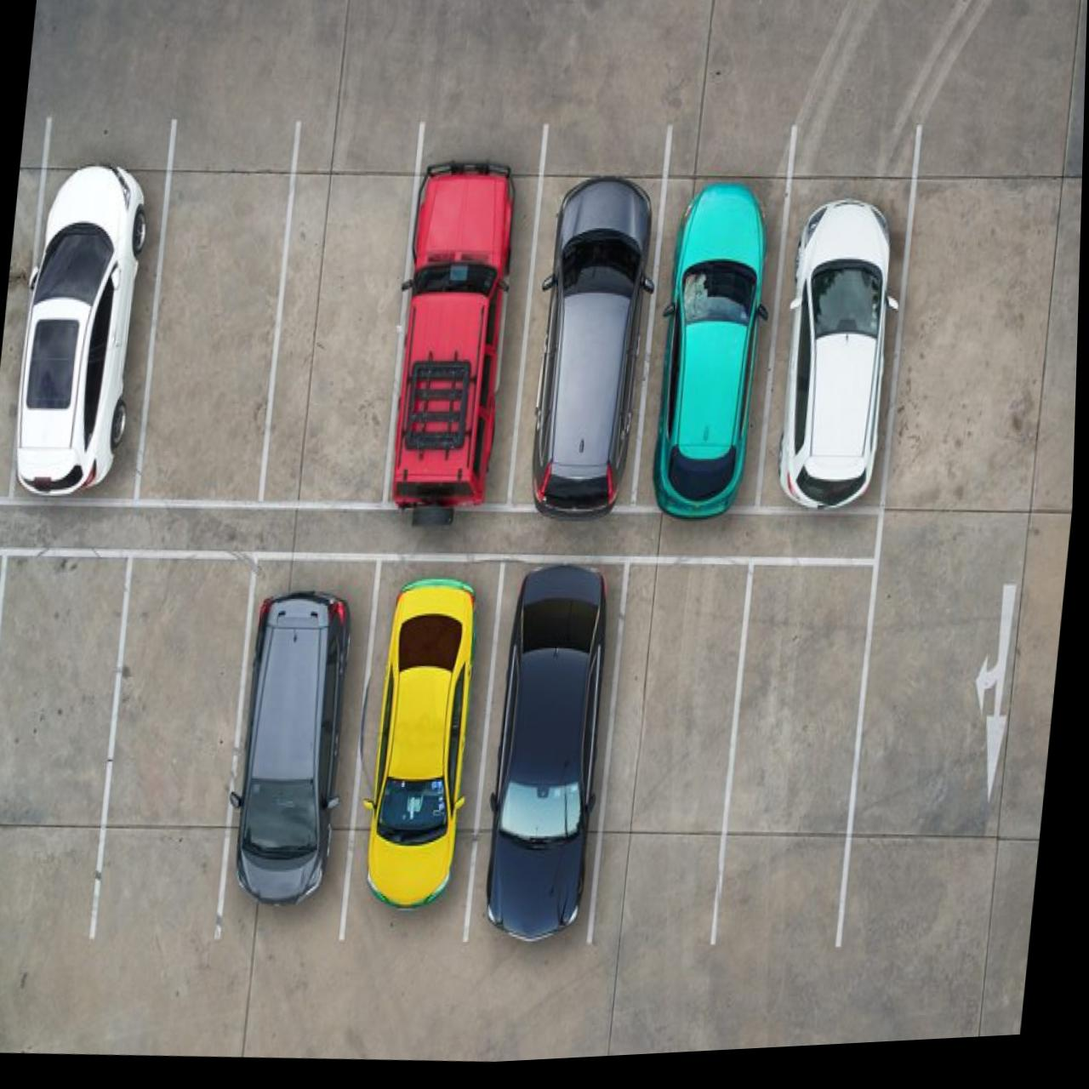cars: (759, 120, 928, 506), (214, 550, 376, 949), (461, 553, 631, 932), (628, 122, 795, 498), (12, 112, 169, 494), (386, 131, 546, 505), (338, 556, 495, 933), (506, 117, 657, 505)
empty: (254, 126, 424, 512), (91, 551, 257, 938), (589, 558, 748, 954), (131, 117, 292, 504), (714, 569, 872, 948), (0, 550, 131, 935)
